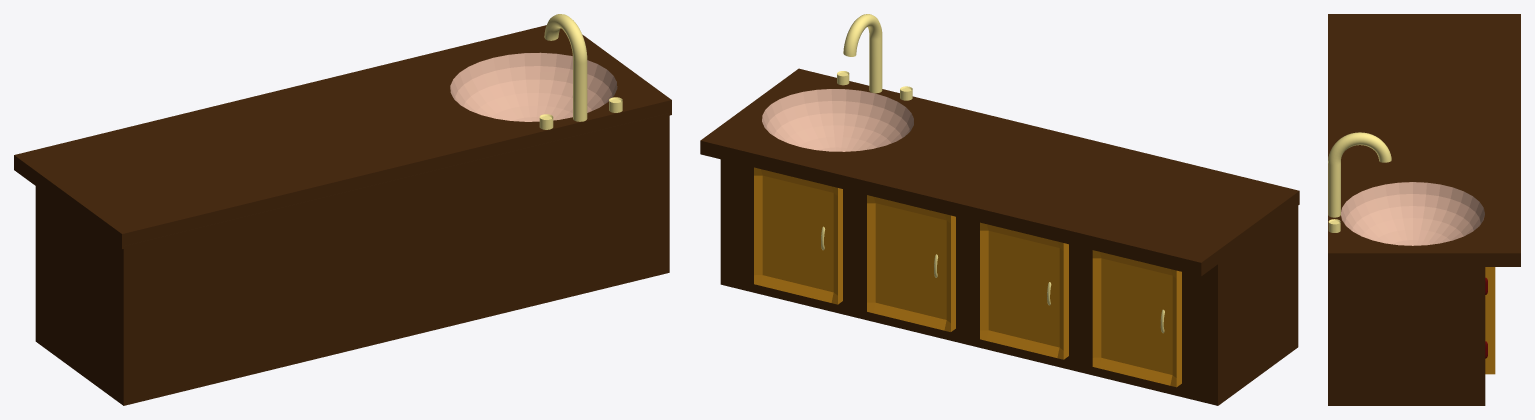
File: furniture_countersink.fbx
3 views of the same model, side by side, from view 1: azimuth 30°, elevation 25°; view 2: azimuth 150°, elevation 25°; view 3: azimuth 270°, elevation 25° (orthographic). The views are drawn at different scales.
Parts seen in each view (by area): view 1: Cube, Torus.004; view 2: Cube, Cube.002, Cube.005, Cube.003, Cube.004, Torus.004; view 3: Cube, Torus.004, Cube.003.
Part boxes in pixels (bbox=[...]): Cube: bbox=[14, 25, 671, 405]; Torus.004: bbox=[544, 14, 587, 121]; Cube: bbox=[700, 68, 1299, 405]; Cube.002: bbox=[1092, 250, 1181, 387]; Cube.005: bbox=[980, 222, 1068, 359]; Cube.003: bbox=[754, 167, 842, 304]; Cube.004: bbox=[867, 195, 955, 331]; Torus.004: bbox=[843, 14, 882, 93]; Cube: bbox=[1328, 14, 1520, 405]; Torus.004: bbox=[1328, 132, 1391, 217]; Cube.003: bbox=[1485, 267, 1495, 374].
Bounding box in the file's own units: 2218 × 1018 × 756.
